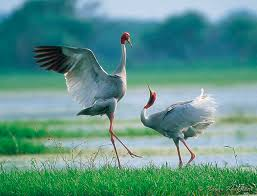seu_dau_do: (32, 32, 134, 170), (142, 81, 217, 167)
